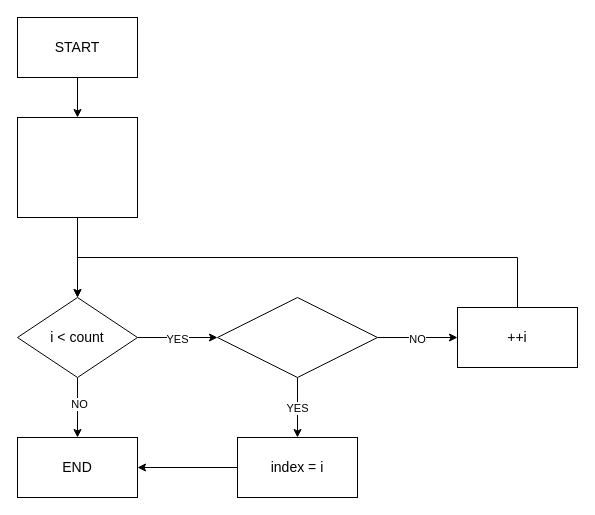
The diagram is 595 pixels wide and 515 high, and some of its shapes have lost their labels. Each missing label, with the centre of its shape:
array[i] == target: point (297, 337)
count target array[count] index = -1 i = 0: point (77, 167)
